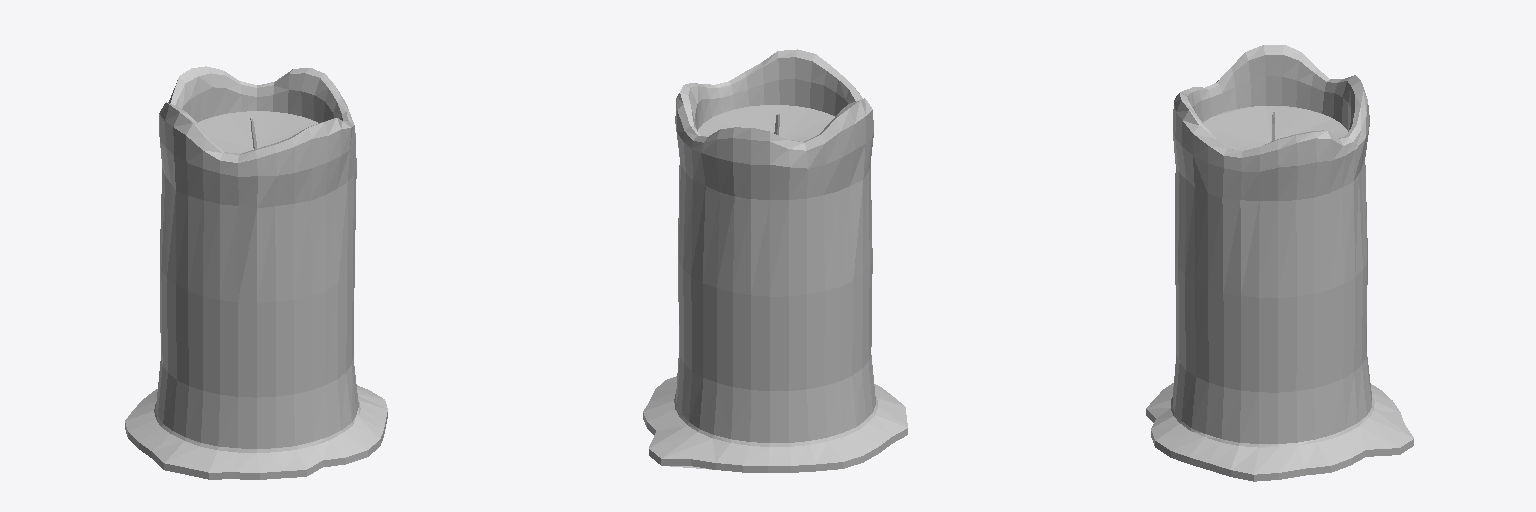
The model's file is candle.obj.
3 renders of one model, left to right at view 1: azimuth 30°, elevation 25°; view 2: azimuth 150°, elevation 25°; view 3: azimuth 270°, elevation 25°, orthographic.
Visible parts, largest first — view 1: Candle_2; view 2: Candle_2; view 3: Candle_2.
Boxes of the visible parts, box(x1,y1,x2,y2) form: Candle_2: box(125, 66, 387, 479); Candle_2: box(643, 49, 907, 472); Candle_2: box(1146, 45, 1413, 481).
Bounding box in the file's own units: 1.71 × 2.4 × 1.72.